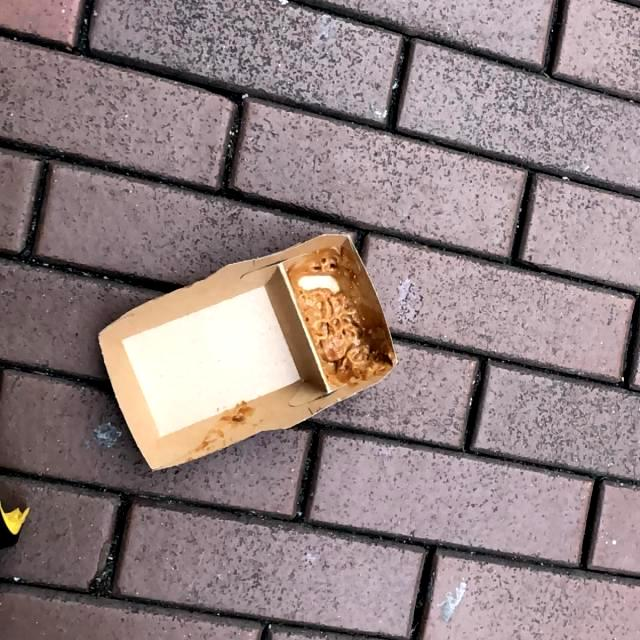Paper: (94, 231, 400, 474)
